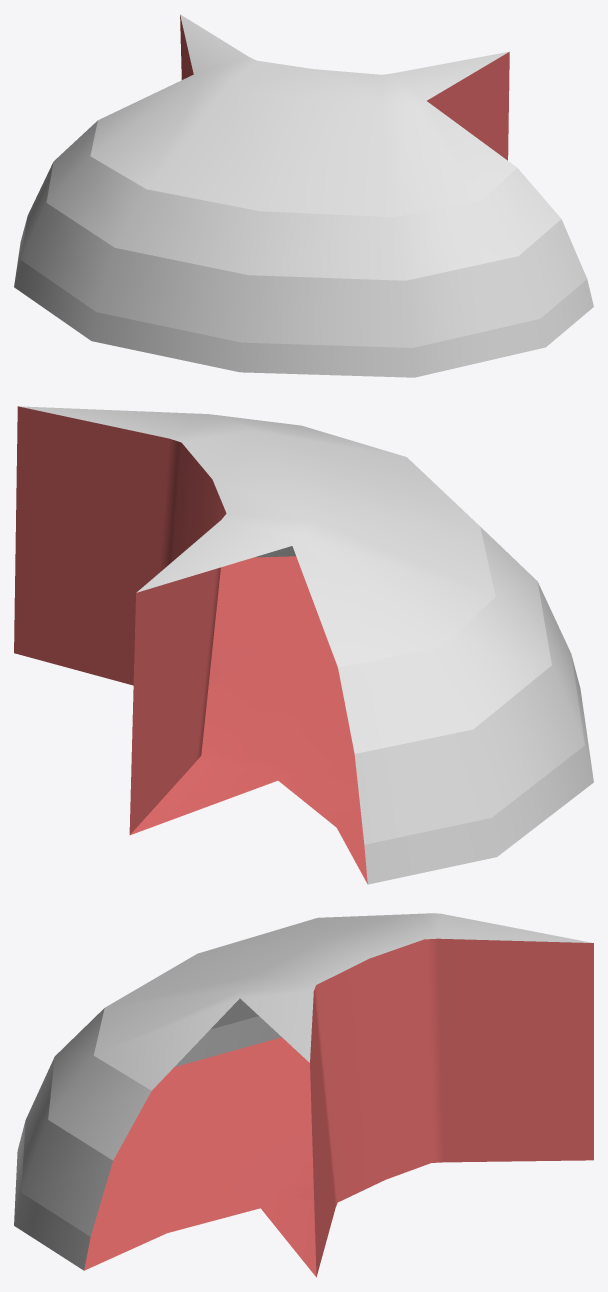
File: wall_trim_cap.fbx
The picture shows the model from 3 angles, top to bottom: view 1: azimuth 30°, elevation 25°; view 2: azimuth 150°, elevation 25°; view 3: azimuth 270°, elevation 25°; orthographic projection. The views are drawn at different scales.
Visible parts, largest first — view 1: wall_trim_cap; view 2: wall_trim_cap; view 3: wall_trim_cap.
Part boxes in pixels (<box>): wall_trim_cap: <box>14,14,593,377</box>; wall_trim_cap: <box>14,406,593,884</box>; wall_trim_cap: <box>14,913,593,1277</box>.
Size of the model in its own units: 2.4 by 1.01 by 2.4.
